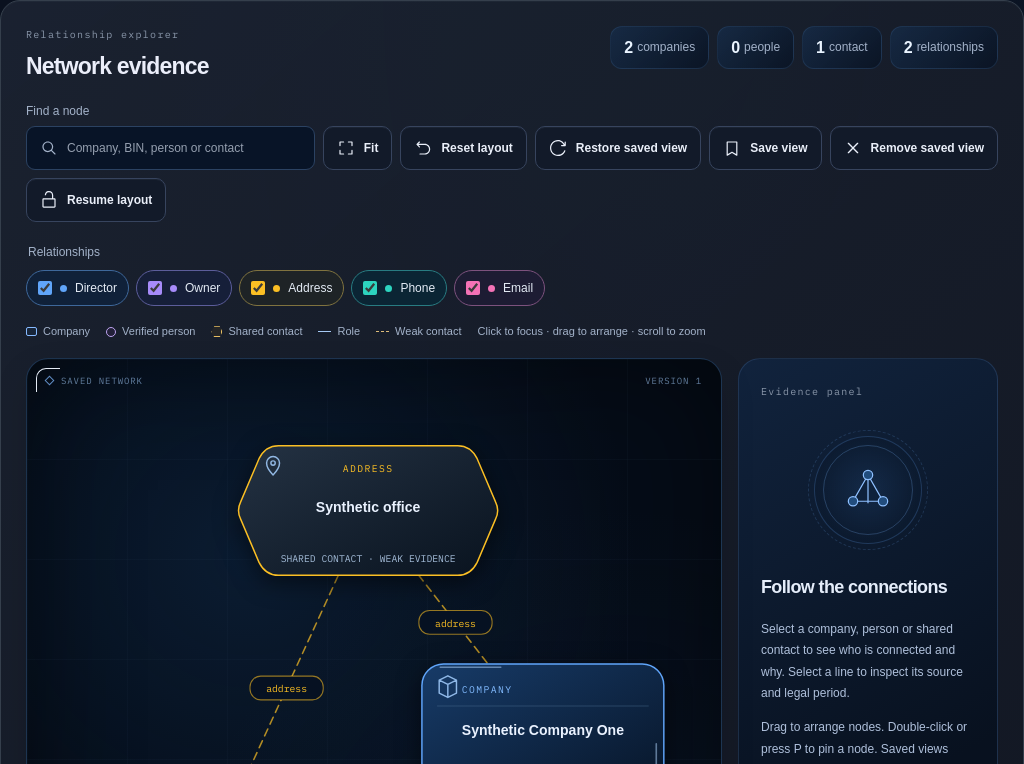
Test: graph Save View contract › retains the saved view and blocks stale writes if removal conflicts
Click the button "Remove saved view" at [914, 148], box [830,126,998,170]
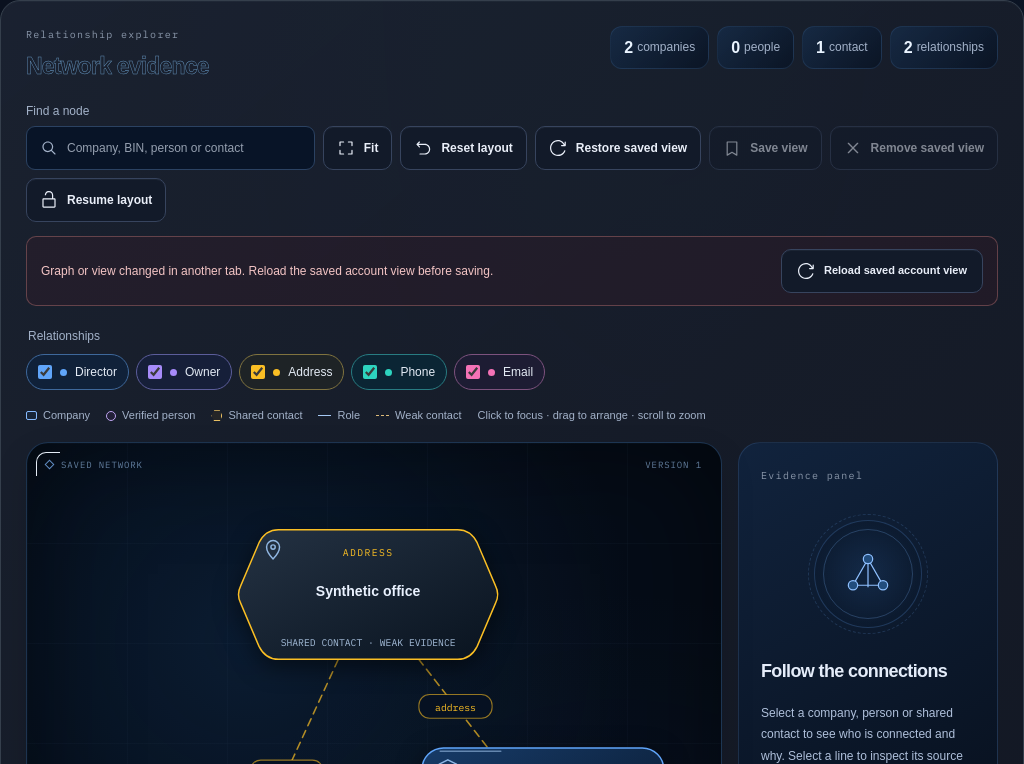
Expected: the button "Reload saved account view" is enabled, [781,249,983,293]
Expected: the button "Save view" is disabled, [709,126,822,170]
Expected: the button "Remove saved view" is disabled, [830,126,998,170]
